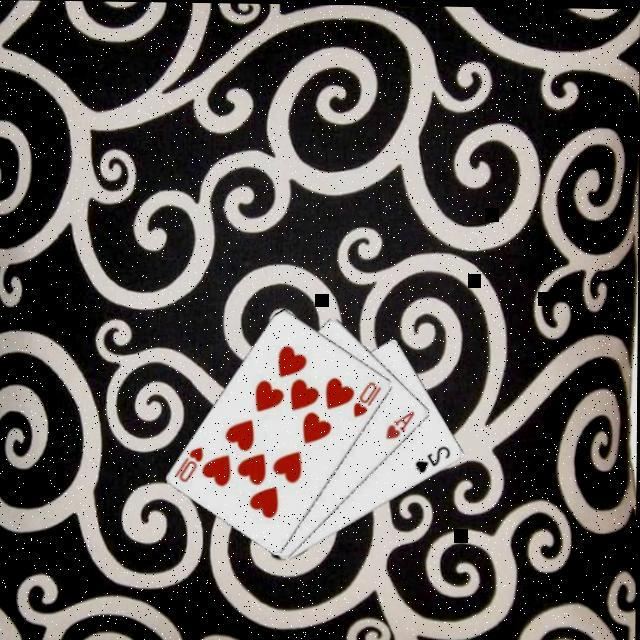10H: (350, 379, 384, 421), (172, 444, 206, 486)
2S: (412, 442, 454, 477)
AH: (382, 408, 418, 443)
